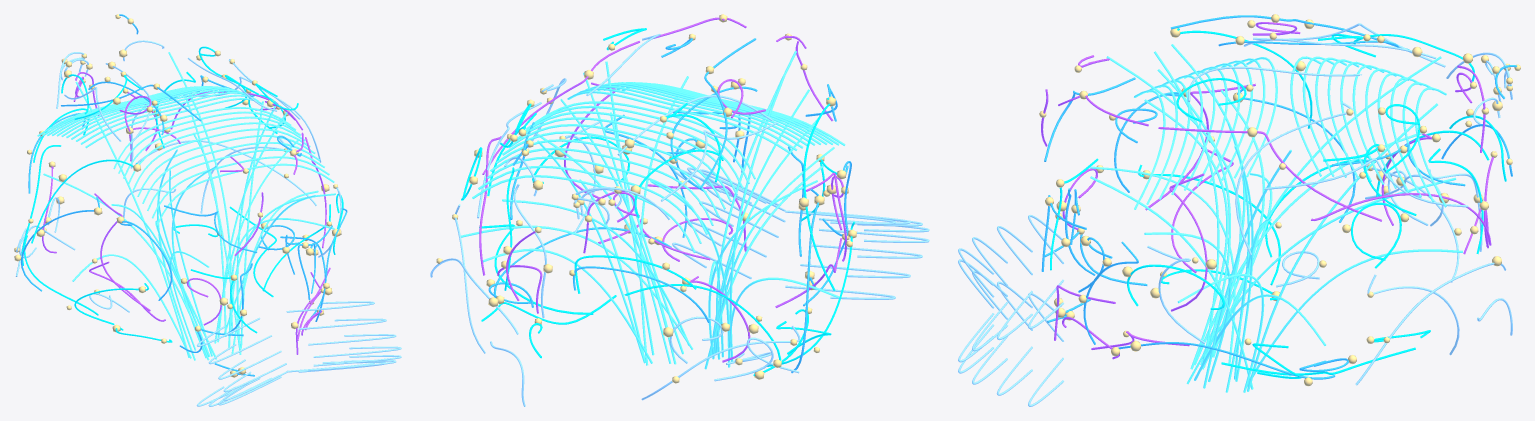
3 renders of one model, left to right at view 1: azimuth 30°, elevation 25°; view 2: azimuth 150°, elevation 25°; view 3: azimuth 270°, elevation 25°, orthographic. The views are drawn at different scales.
Parts seen in each view (by area): view 1: Ignition_Corpus_Callosum_Tracts, Ignition_Cortical_Threads_4, Ignition_Cortical_Threads_3, Ignition_Cortical_Threads_1, Ignition_Cortical_Threads_2, Ignition_Synaptic_Nodes_1, Ignition_Synaptic_Nodes_3, Ignition_Synaptic_Nodes_2, Ignition_Synaptic_Nodes_4; view 2: Ignition_Corpus_Callosum_Tracts, Ignition_Cortical_Threads_4, Ignition_Cortical_Threads_3, Ignition_Cortical_Threads_2, Ignition_Cortical_Threads_1, Ignition_Synaptic_Nodes_1, Ignition_Synaptic_Nodes_4, Ignition_Synaptic_Nodes_3, Ignition_Synaptic_Nodes_2; view 3: Ignition_Corpus_Callosum_Tracts, Ignition_Cortical_Threads_4, Ignition_Cortical_Threads_3, Ignition_Cortical_Threads_1, Ignition_Cortical_Threads_2, Ignition_Synaptic_Nodes_3, Ignition_Synaptic_Nodes_1, Ignition_Synaptic_Nodes_4, Ignition_Synaptic_Nodes_2.
Part boxes in pixels (x1,y1,x2,y2): Ignition_Corpus_Callosum_Tracts: [37, 52, 335, 360]; Ignition_Cortical_Threads_4: [15, 40, 401, 406]; Ignition_Cortical_Threads_3: [21, 46, 343, 342]; Ignition_Cortical_Threads_1: [21, 14, 347, 376]; Ignition_Cortical_Threads_2: [42, 72, 330, 354]; Ignition_Synaptic_Nodes_1: [48, 55, 313, 374]; Ignition_Synaptic_Nodes_3: [14, 18, 341, 331]; Ignition_Synaptic_Nodes_2: [27, 59, 340, 377]; Ignition_Synaptic_Nodes_4: [36, 14, 337, 305]; Ignition_Corpus_Callosum_Tracts: [461, 51, 845, 369]; Ignition_Cortical_Threads_4: [430, 34, 929, 406]; Ignition_Cortical_Threads_3: [461, 28, 855, 376]; Ignition_Cortical_Threads_2: [479, 17, 846, 362]; Ignition_Cortical_Threads_1: [488, 38, 851, 373]; Ignition_Synaptic_Nodes_1: [469, 14, 848, 353]; Ignition_Synaptic_Nodes_4: [436, 63, 856, 383]; Ignition_Synaptic_Nodes_3: [452, 66, 849, 367]; Ignition_Synaptic_Nodes_2: [507, 33, 829, 379]; Ignition_Corpus_Callosum_Tracts: [1090, 44, 1462, 392]; Ignition_Cortical_Threads_4: [958, 23, 1512, 406]; Ignition_Cortical_Threads_3: [1050, 28, 1506, 378]; Ignition_Cortical_Threads_1: [1041, 15, 1516, 379]; Ignition_Cortical_Threads_2: [1041, 22, 1495, 359]; Ignition_Synaptic_Nodes_3: [1045, 14, 1512, 351]; Ignition_Synaptic_Nodes_1: [1054, 34, 1501, 340]; Ignition_Synaptic_Nodes_4: [1039, 46, 1520, 386]; Ignition_Synaptic_Nodes_2: [1055, 19, 1501, 356].
Bounding box in the file's own units: 5.25 × 4.28 × 6.46.
